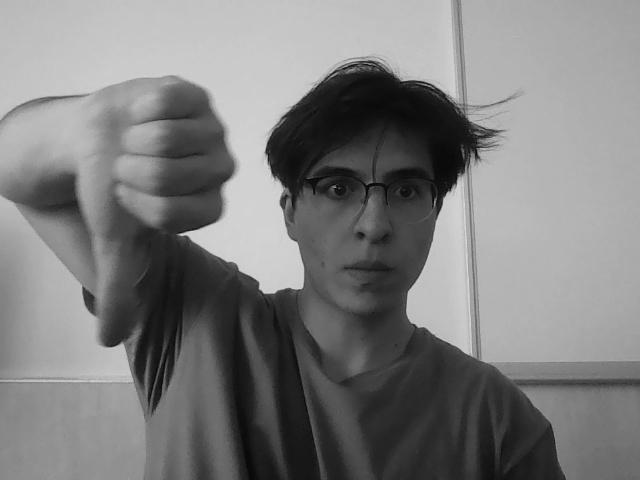bad: (66, 95, 232, 370)
